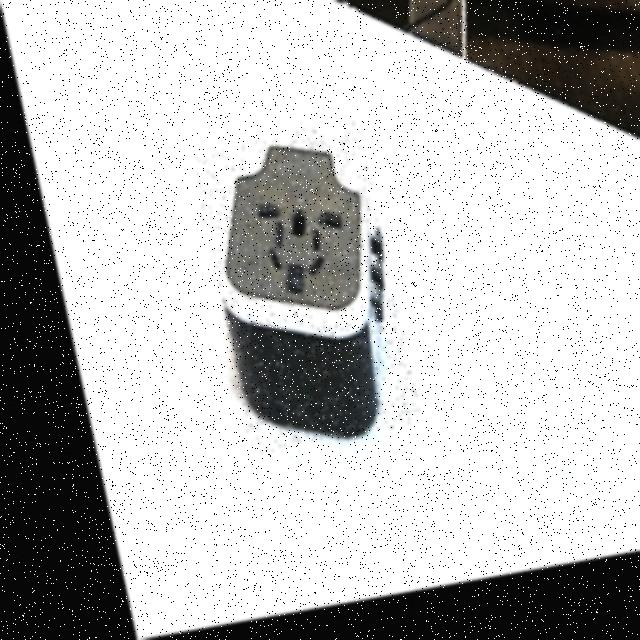adapter: (179, 131, 402, 460)
